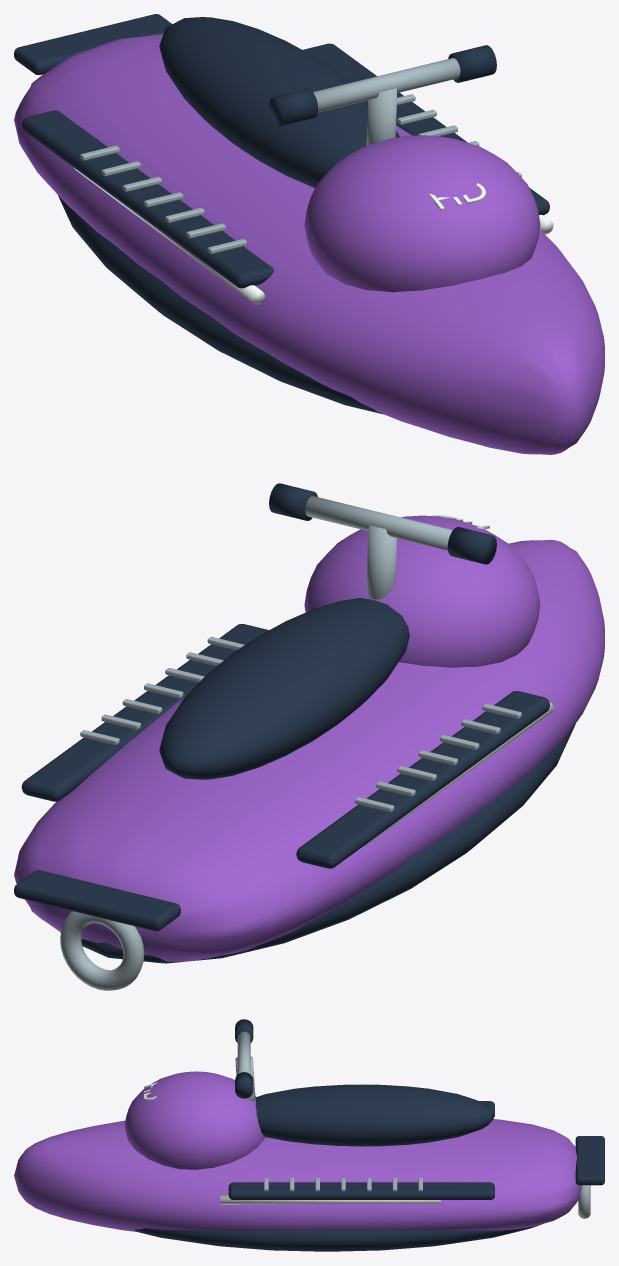
The model's file is 03_Leviathan_Power.glb.
The picture shows the model from 3 angles, top to bottom: view 1: azimuth 30°, elevation 25°; view 2: azimuth 150°, elevation 25°; view 3: azimuth 270°, elevation 25°; orthographic projection. The views are drawn at different scales.
Visible parts, largest first — view 1: Sculpted hull.002, Front cowl.002, Saddle.002, Foot deck.004, Lower hull.002, Rear step.002, Handlebar.002, Foot deck.005, Steering column.002, Grip.004, Grip.005, Side highlight.004; view 2: Sculpted hull.002, Saddle.002, Front cowl.002, Foot deck.004, Lower hull.002, Foot deck.005, Rear step.002, Jet outlet.002, Handlebar.002, Steering column.002, Grip.004, Grip.005 (+1 smaller); view 3: Sculpted hull.002, Saddle.002, Front cowl.002, Lower hull.002, Foot deck.005, Rear step.002, Side highlight.005, Handlebar.002, Grip.005, Jet outlet.002.
Part boxes in pixels (x1=…): Sculpted hull.002: x1=14, y1=34, x2=604, y2=454; Front cowl.002: x1=304, y1=135, x2=540, y2=292; Saddle.002: x1=159, y1=17, x2=399, y2=187; Foot deck.004: x1=21, y1=110, x2=273, y2=288; Lower hull.002: x1=58, y1=195, x2=383, y2=414; Rear step.002: x1=14, y1=14, x2=172, y2=74; Handlebar.002: x1=313, y1=58, x2=460, y2=112; Foot deck.005: x1=303, y1=43, x2=549, y2=215; Steering column.002: x1=366, y1=88, x2=396, y2=145; Grip.004: x1=269, y1=88, x2=318, y2=126; Grip.005: x1=448, y1=45, x2=496, y2=82; Side highlight.004: x1=73, y1=167, x2=264, y2=304; Sculpted hull.002: x1=14, y1=539, x2=604, y2=961; Saddle.002: x1=159, y1=598, x2=409, y2=779; Front cowl.002: x1=304, y1=515, x2=540, y2=667; Foot deck.004: x1=296, y1=691, x2=549, y2=868; Lower hull.002: x1=81, y1=723, x2=575, y2=963; Foot deck.005: x1=21, y1=624, x2=268, y2=801; Rear step.002: x1=14, y1=870, x2=180, y2=931; Jet outlet.002: x1=60, y1=911, x2=144, y2=990; Handlebar.002: x1=305, y1=496, x2=452, y2=550; Steering column.002: x1=366, y1=525, x2=396, y2=599; Grip.004: x1=447, y1=527, x2=496, y2=564; Grip.005: x1=269, y1=483, x2=317, y2=520; Sculpted hull.002: x1=14, y1=1119, x2=581, y2=1231; Saddle.002: x1=255, y1=1084, x2=494, y2=1146; Front cowl.002: x1=124, y1=1071, x2=265, y2=1169; Lower hull.002: x1=134, y1=1224, x2=542, y2=1251; Foot deck.005: x1=228, y1=1182, x2=494, y2=1199; Rear step.002: x1=575, y1=1136, x2=604, y2=1185; Side highlight.005: x1=220, y1=1195, x2=440, y2=1204; Handlebar.002: x1=237, y1=1031, x2=250, y2=1073; Grip.005: x1=235, y1=1072, x2=253, y2=1098; Jet outlet.002: x1=578, y1=1185, x2=590, y2=1218.
Size of the model in its own units: 1.25 by 1.05 by 3.21.
